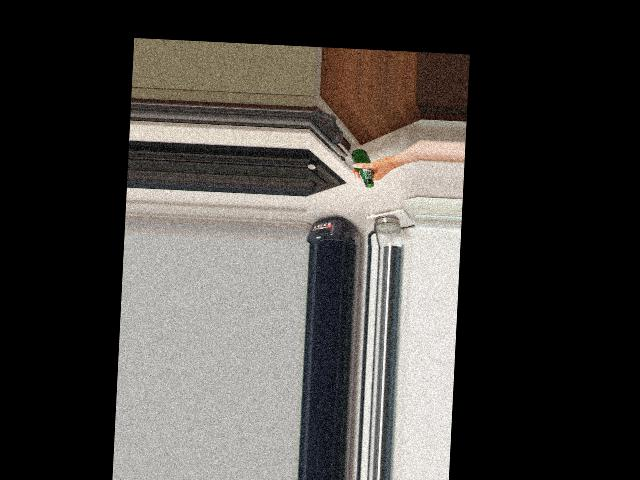beer: (350, 148, 376, 187)
